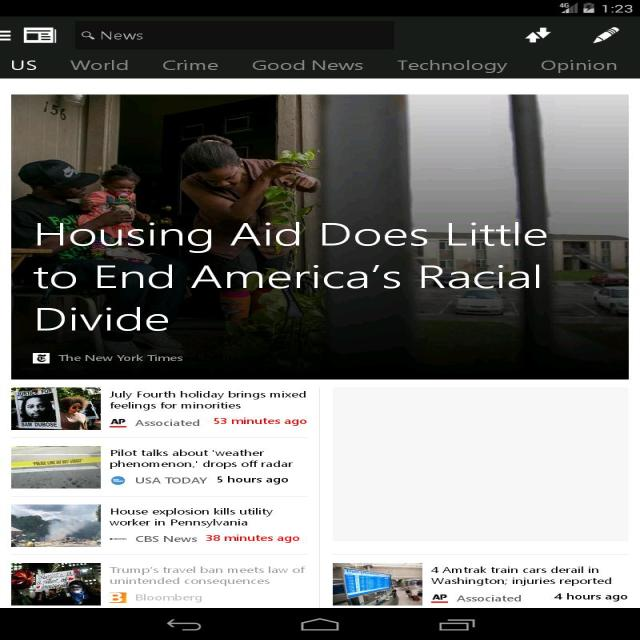button: (235, 54, 364, 78), (388, 56, 520, 78), (143, 54, 230, 77), (538, 56, 632, 76), (62, 56, 137, 76), (588, 20, 623, 48), (521, 25, 557, 51), (5, 55, 49, 76), (21, 26, 55, 44)
field: (72, 24, 390, 52)
heading: (25, 218, 546, 331)
image: (12, 93, 627, 379), (11, 386, 100, 429), (9, 560, 99, 602), (332, 564, 422, 606), (12, 449, 100, 487), (14, 502, 97, 542)
text: (110, 388, 308, 431), (108, 445, 299, 488), (110, 507, 306, 545), (104, 565, 310, 601), (429, 567, 629, 602)
